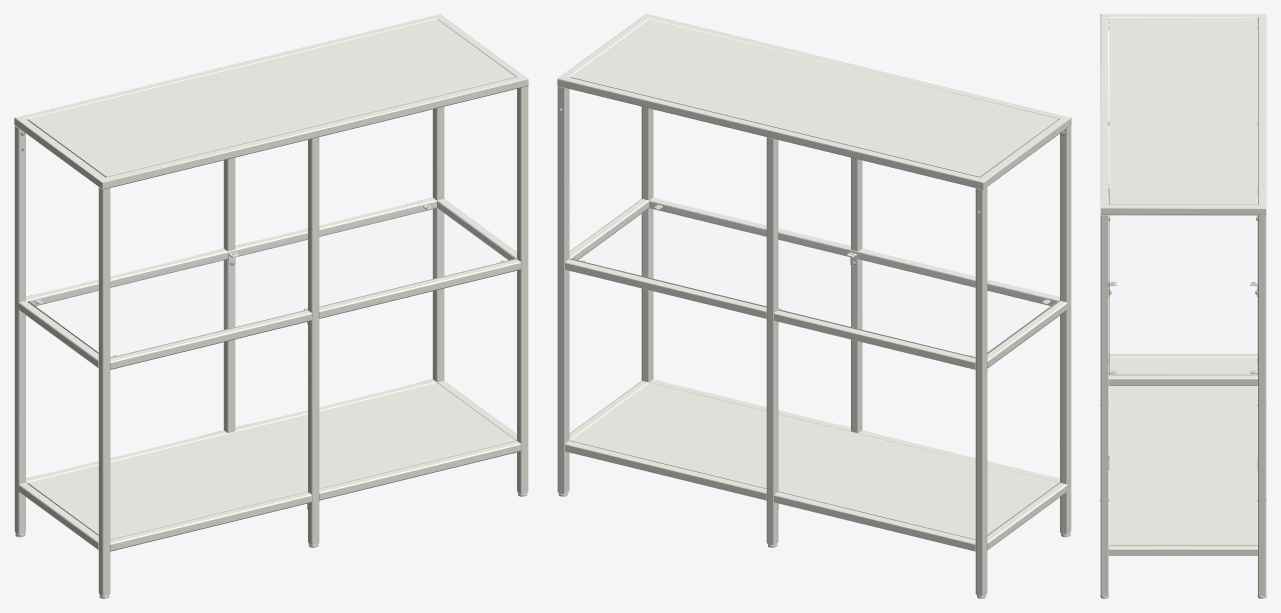
Rendered from VITTSJÖ Shelf unit - white (10305802).glb.
The picture shows the model from 3 angles, left to right: view 1: azimuth 30°, elevation 25°; view 2: azimuth 150°, elevation 25°; view 3: azimuth 270°, elevation 25°; orthographic projection. The views are drawn at different scales.
Parts seen in each view (by area): view 1: 1; view 2: 1; view 3: 1.
Boxes of the visible parts, x1,y1,x2,y2 form: 1: (14, 14, 528, 598); 1: (557, 14, 1071, 598); 1: (1100, 14, 1266, 598).
Bounding box in the file's own units: 1 × 0.9368 × 0.3617.
2 materials, 2 textured.
